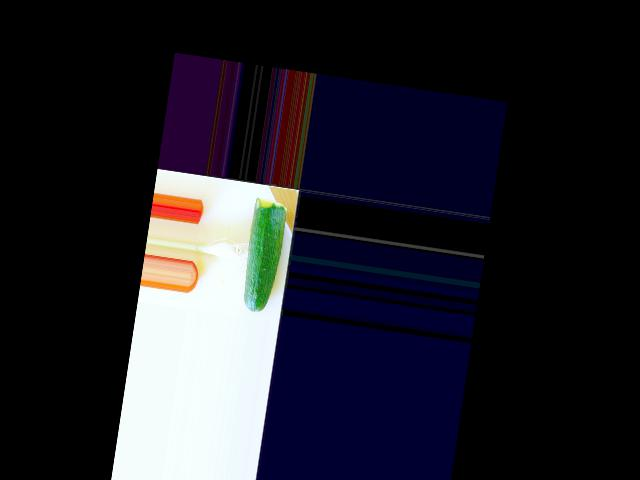cucumber: (239, 197, 289, 315)
